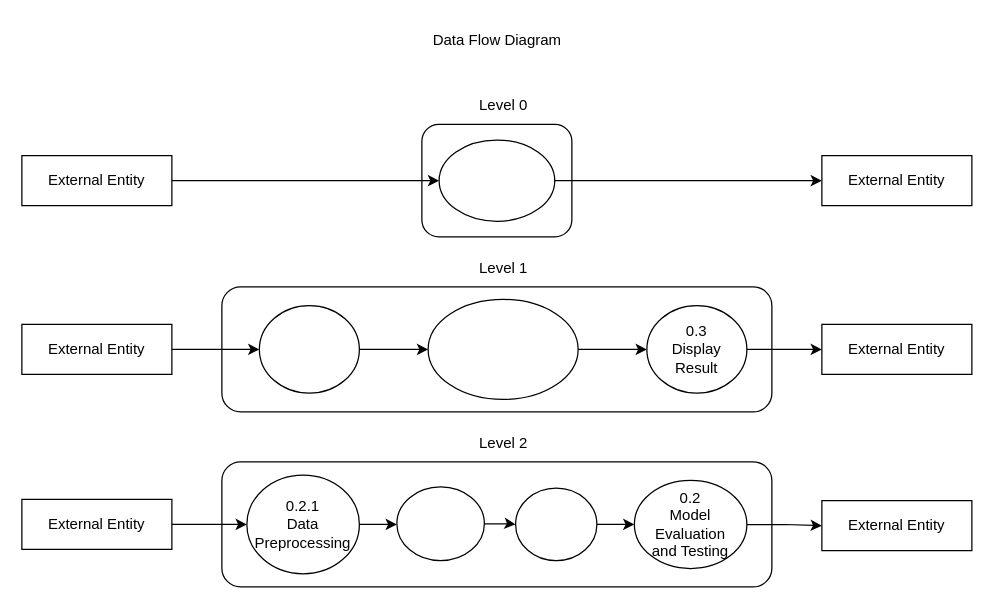
The diagram is 994 pixels wide and 609 high, and some of its shapes have lost their labels. The shapes that lost their labels are listed below. From the top down, each one's centre as x and y in pixels, then its label:
point (496, 180): 0 Cloudburst Prediction
point (308, 348): 0.1 Data Acquisition
point (502, 348): 0.2 Data preprocessing, training and evaluation
point (440, 523): 0.2.2 Spliting Dataset
point (555, 524): 0.2.3 Model Training
